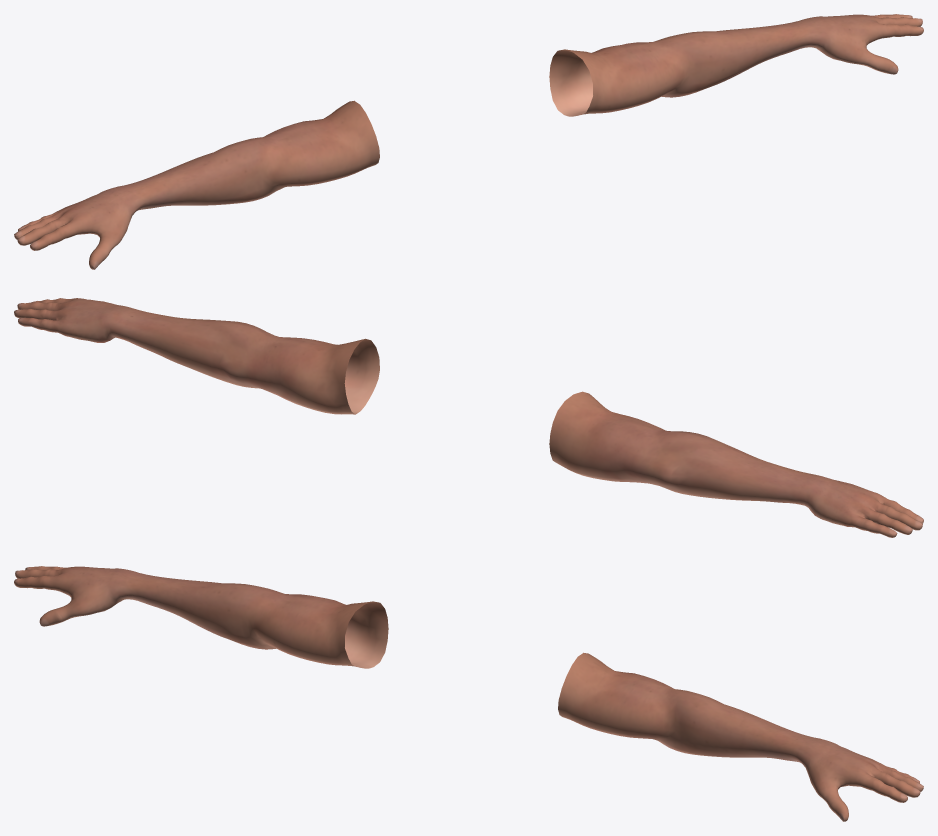
Rendered from PlayerArms.obj.
The picture shows the model from 3 angles, top to bottom: view 1: azimuth 30°, elevation 25°; view 2: azimuth 150°, elevation 25°; view 3: azimuth 330°, elevation 25°; orthographic projection.
Visible parts, largest first — view 1: Body; view 2: Body; view 3: Body.
Boxes of the visible parts, bbox=[...] form: Body: bbox=[14, 14, 923, 269]; Body: bbox=[14, 298, 923, 537]; Body: bbox=[14, 566, 923, 821].
Size of the model in its own units: 194 by 15.11 by 18.67.
